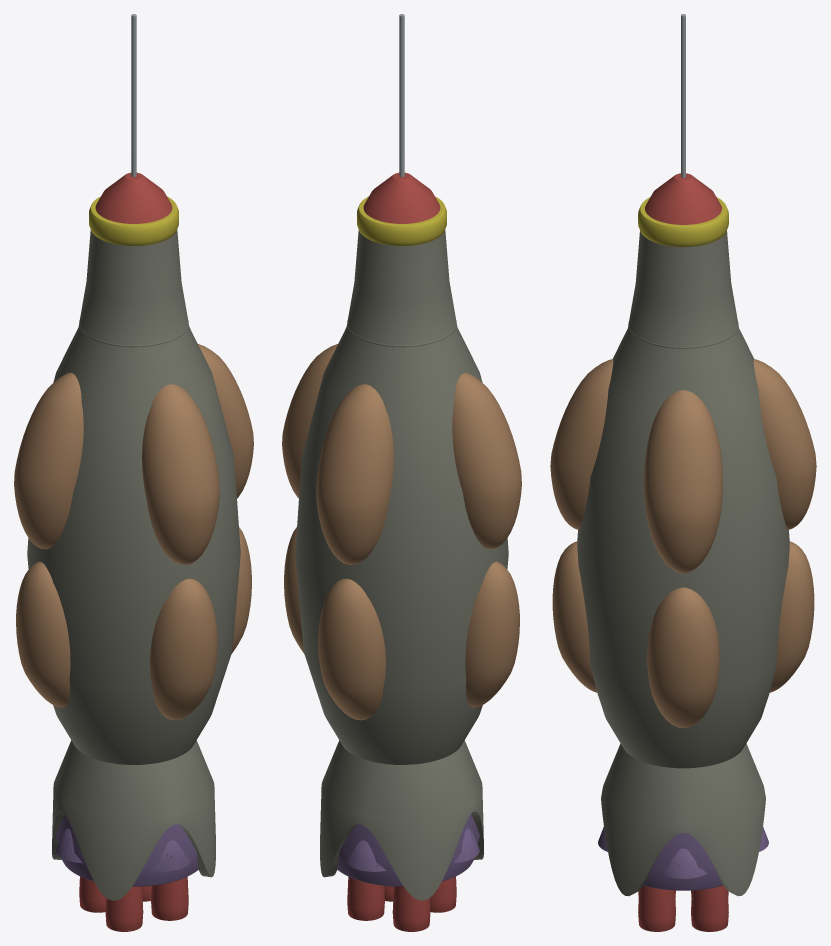
3 views of the same model, side by side, from view 1: azimuth 30°, elevation 25°; view 2: azimuth 150°, elevation 25°; view 3: azimuth 270°, elevation 25° (orthographic).
Parts seen in each view (by area): view 1: Virus two-row pressure casing, Virus family scalloped olive skirt, Virus bronze side form.004, Virus bronze side form.007, Virus bronze side form, Virus bronze side form.003, Virus bronze side form.005, Virus family red nose cap, Virus family violet skirt underlayer, Virus yellow nose collar, Virus family hollow red nozzle.001, Virus family hollow red nozzle (+4 smaller); view 2: Virus two-row pressure casing, Virus family scalloped olive skirt, Virus bronze side form.006, Virus bronze side form.007, Virus bronze side form.002, Virus bronze side form.003, Virus bronze side form.005, Virus family red nose cap, Virus family violet skirt underlayer, Virus yellow nose collar, Virus family hollow red nozzle.003, Virus family hollow red nozzle.002 (+4 smaller); view 3: Virus two-row pressure casing, Virus family scalloped olive skirt, Virus bronze side form.005, Virus bronze side form.001, Virus bronze side form.004, Virus bronze side form.006, Virus bronze side form, Virus bronze side form.002, Virus family red nose cap, Virus family violet skirt underlayer, Virus yellow nose collar, Virus family hollow red nozzle.001 (+3 smaller).
Boxes of the visible parts, x1,y1,x2,y2 form: Virus two-row pressure casing: (27,230,240,764); Virus family scalloped olive skirt: (52,740,215,900); Virus bronze side form.004: (142,384,219,564); Virus bronze side form.007: (14,372,83,549); Virus bronze side form: (150,578,217,720); Virus bronze side form.003: (16,561,70,707); Virus bronze side form.005: (198,344,253,498); Virus family red nose cap: (95,172,172,223); Virus family violet skirt underlayer: (56,814,198,886); Virus yellow nose collar: (89,196,178,245); Virus family hollow red nozzle.001: (151,876,188,920); Virus family hollow red nozzle: (105,886,143,931); Virus two-row pressure casing: (295,230,508,764); Virus family scalloped olive skirt: (320,740,483,900); Virus bronze side form.006: (316,384,393,564); Virus bronze side form.007: (452,372,521,549); Virus bronze side form.002: (318,578,385,720); Virus bronze side form.003: (465,561,519,707); Virus bronze side form.005: (282,344,337,498); Virus family red nose cap: (363,172,440,223); Virus family violet skirt underlayer: (337,814,479,886); Virus yellow nose collar: (357,196,446,245); Virus family hollow red nozzle.003: (347,876,384,920); Virus family hollow red nozzle.002: (392,886,430,931); Virus two-row pressure casing: (577,231,789,768); Virus family scalloped olive skirt: (601,743,765,896); Virus bronze side form.005: (644,390,722,573); Virus bronze side form.001: (647,587,719,727); Virus bronze side form.004: (550,359,613,529); Virus bronze side form.006: (753,359,816,529); Virus bronze side form: (552,541,596,692); Virus bronze side form.002: (770,541,814,692); Virus family red nose cap: (645,173,721,224); Virus family violet skirt underlayer: (605,832,761,890); Virus yellow nose collar: (638,197,728,246); Virus family hollow red nozzle.001: (638,885,675,931).
Bounding box in the file's own units: 1.77 × 6.61 × 1.77.
Materials: 8 (1 with a texture image).
